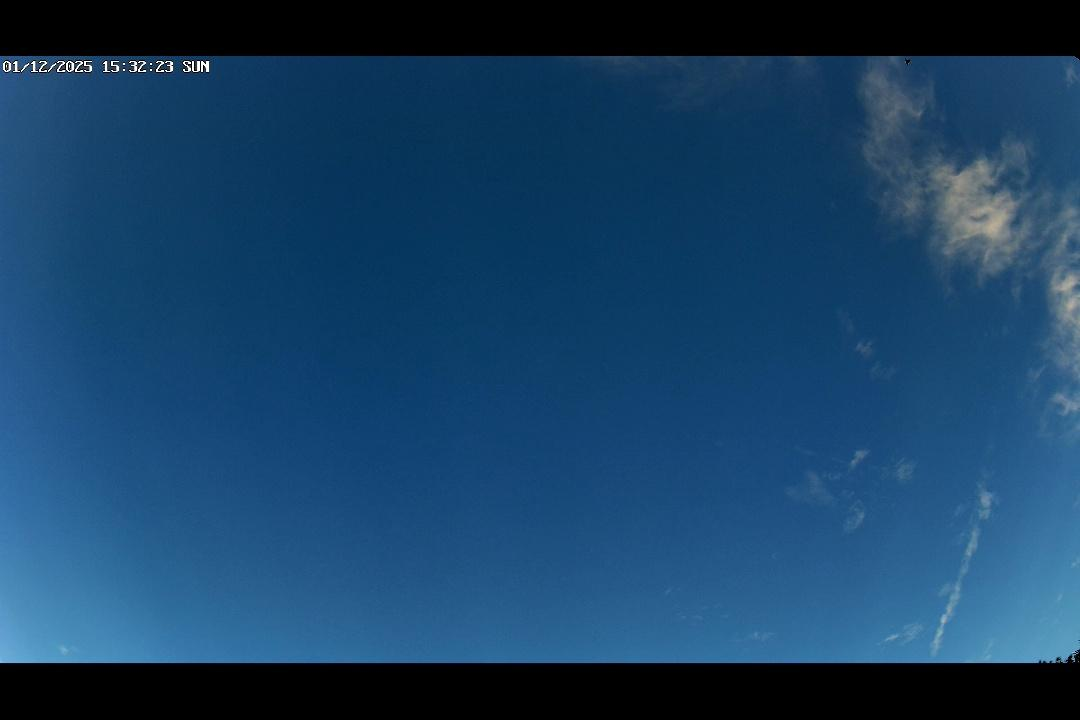WildLife: (893, 56, 922, 69)
